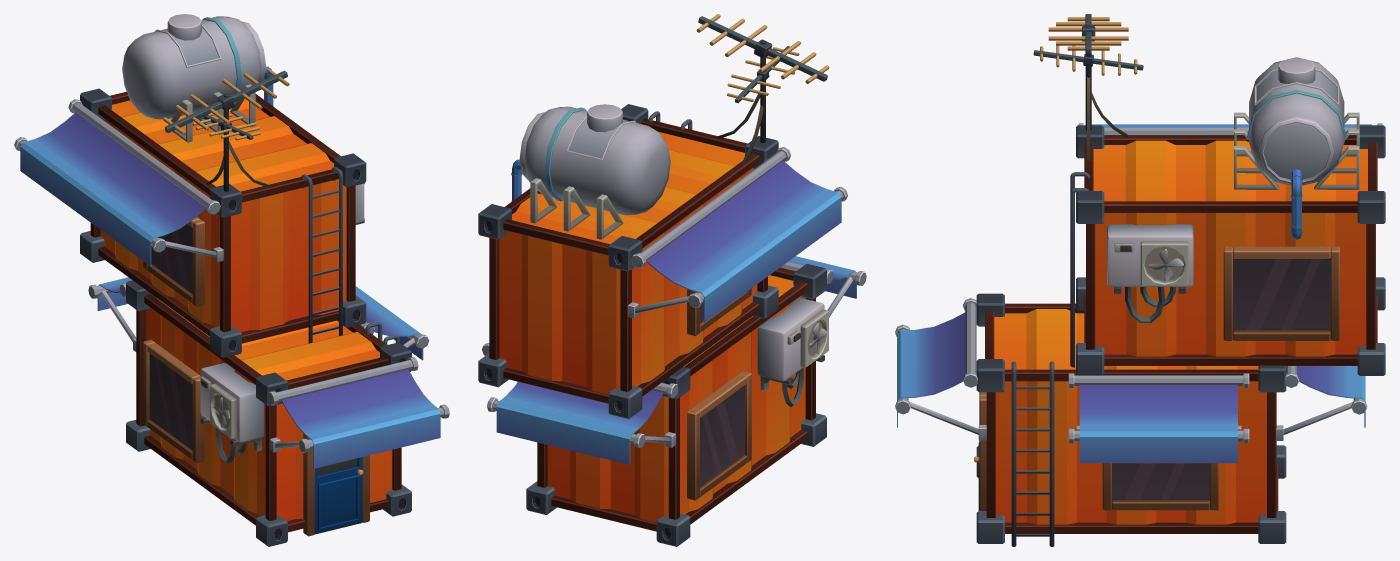
File: sp_prebuild_house_13.fbx
3 views of the same model, side by side, from view 1: azimuth 30°, elevation 25°; view 2: azimuth 150°, elevation 25°; view 3: azimuth 270°, elevation 25° (orthographic). The views are drawn at different scales.
Parts seen in each view (by area): view 1: finb_house_13; view 2: finb_house_13; view 3: finb_house_13.
Part boxes in pixels (<box>): finb_house_13: <box>14,14,449,546</box>; finb_house_13: <box>478,14,866,546</box>; finb_house_13: <box>895,14,1385,546</box>.
Size of the model in its own units: 546 by 812 by 790.
